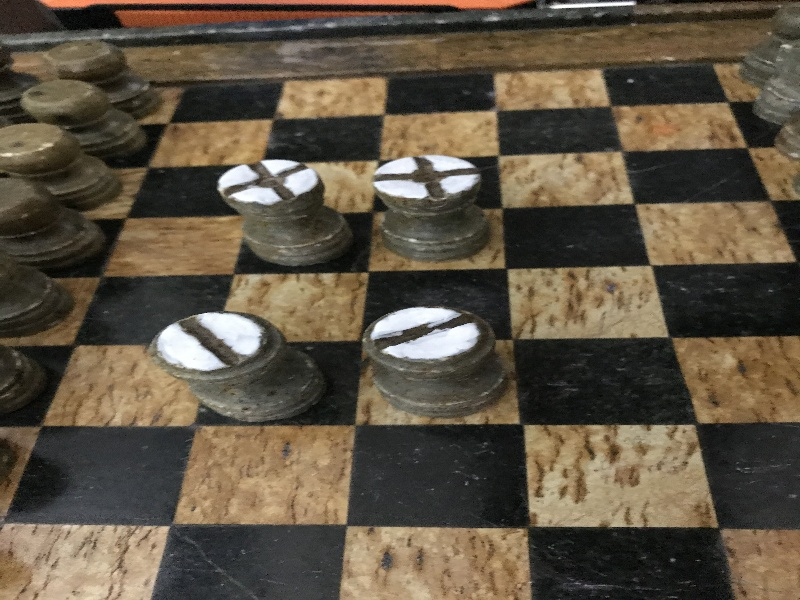WhiteBishop: (217, 158, 352, 266), (373, 155, 490, 260)
WhiteRook: (150, 309, 324, 423), (364, 305, 506, 418)
